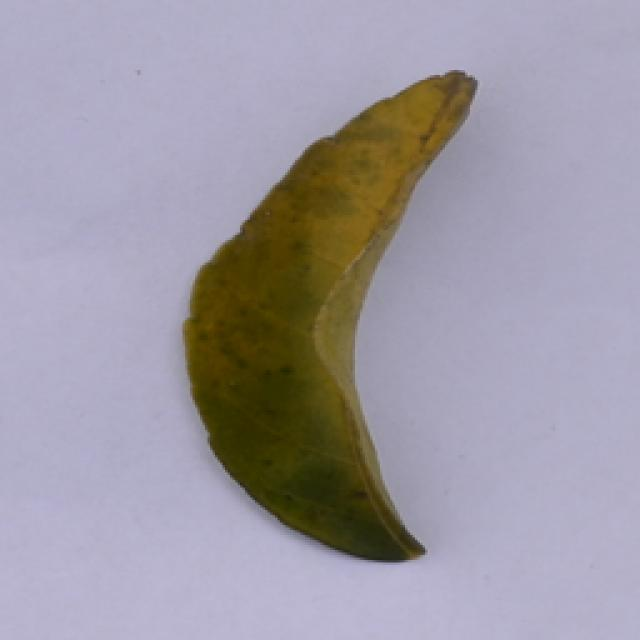blackspot: (172, 63, 478, 576)
